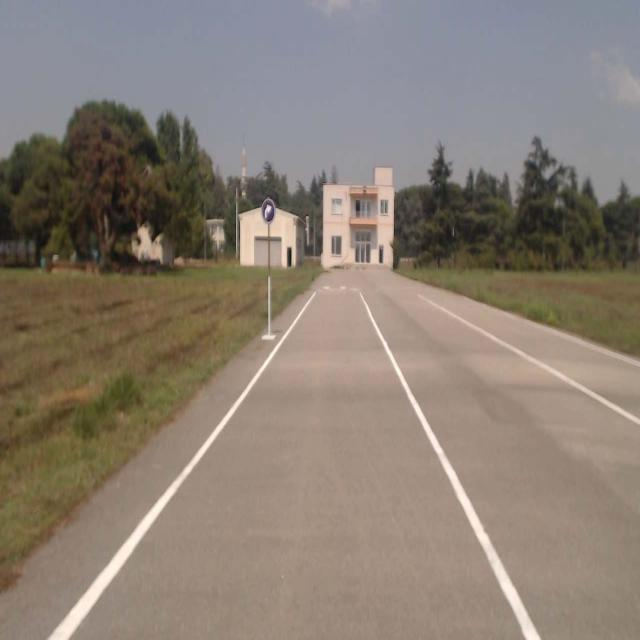sag: (261, 199, 275, 223)
